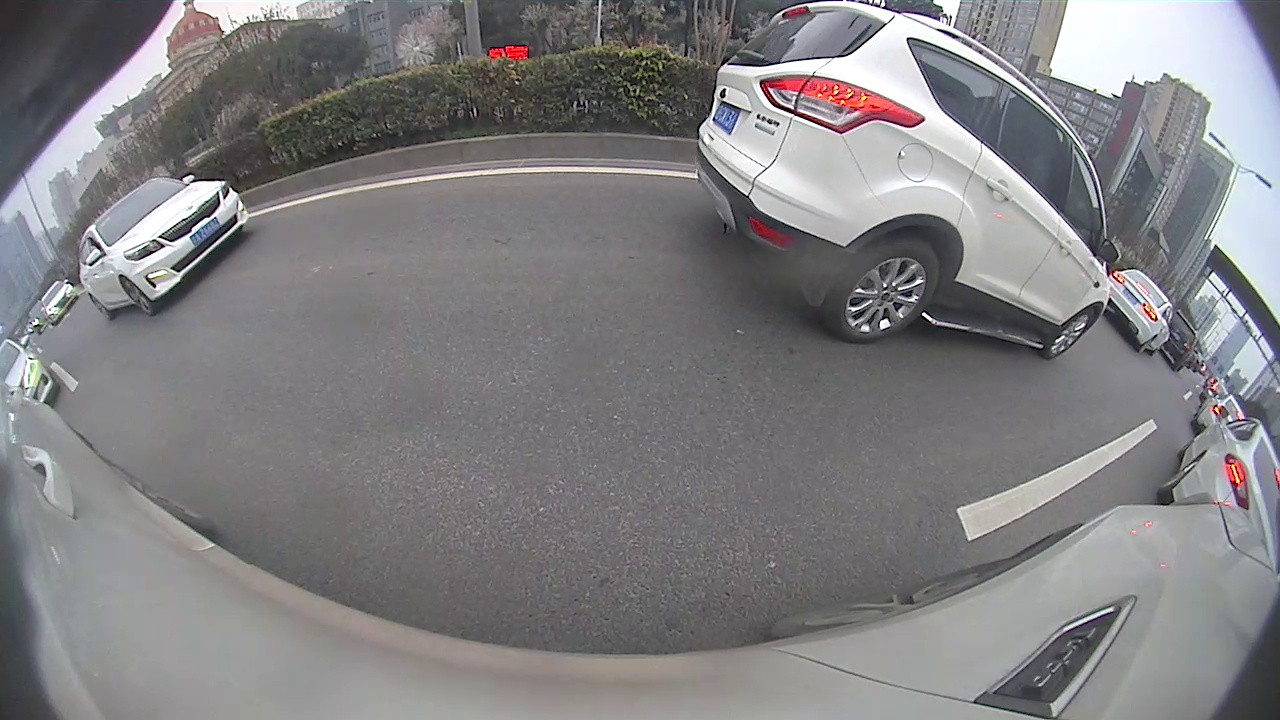car: (695, 1, 1125, 361), (76, 172, 252, 319), (1157, 406, 1278, 559), (1107, 265, 1174, 355), (1, 334, 59, 409)
front: (1042, 303, 1095, 363), (122, 276, 158, 315)
rear: (828, 237, 940, 342), (87, 294, 112, 322)
